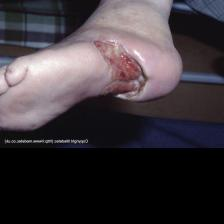Wound: (88, 38, 149, 104)
